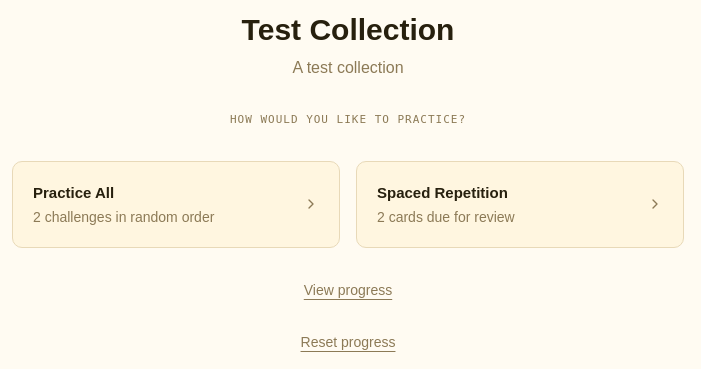
Scenario: ModePicker › shows confirmation UI when Reset progress is clicked
Click the button "Reset progress": [348, 342] box [300,332,395,352]
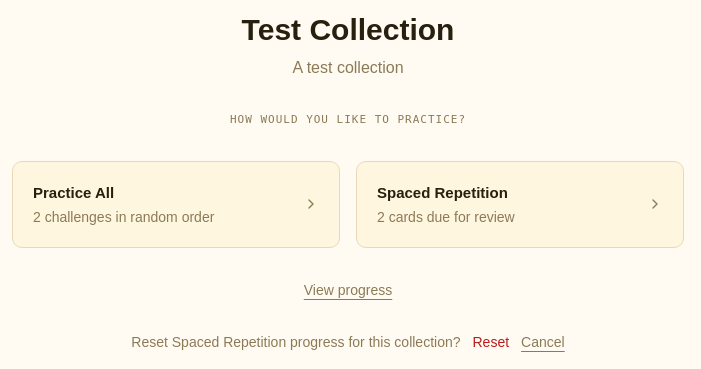
Result: the text "Reset Spaced Repetition progress for this collection?" is shown at [131,332,460,352]
Result: the button "Reset" is shown at [472,332,509,352]
Result: the button "Cancel" is shown at [521,332,565,352]
